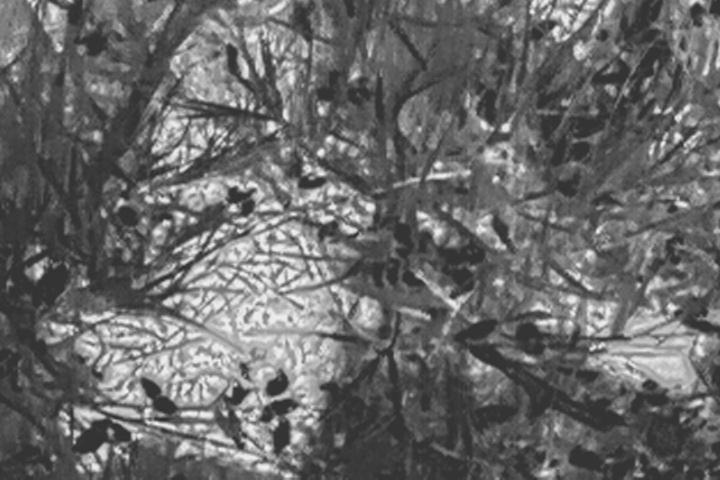landmine: (66, 249, 350, 476)
